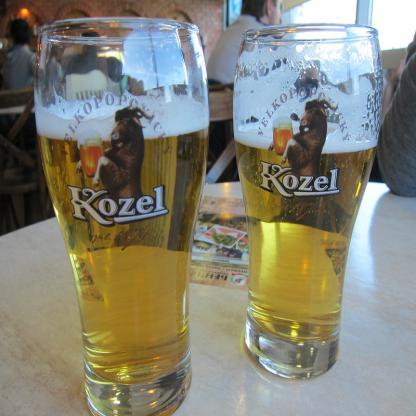drinking: (34, 16, 210, 415), (233, 23, 384, 380)
